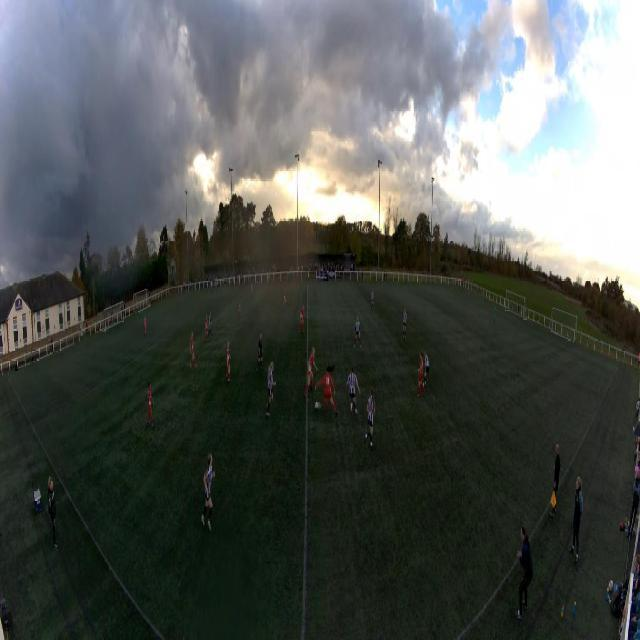ball: (315, 402, 320, 410)
player: (200, 451, 214, 528), (319, 369, 335, 419), (346, 369, 362, 411), (305, 344, 315, 404), (265, 363, 276, 414), (366, 391, 376, 443), (417, 351, 424, 399), (147, 383, 154, 429), (353, 317, 362, 351), (190, 331, 197, 373), (423, 351, 430, 388), (257, 331, 263, 372), (298, 305, 306, 334), (226, 340, 231, 382), (402, 308, 407, 340), (205, 315, 210, 345), (208, 312, 212, 337), (282, 289, 287, 308), (370, 289, 374, 310), (238, 297, 242, 317), (144, 315, 147, 336), (493, 306, 496, 324), (251, 283, 253, 300)
